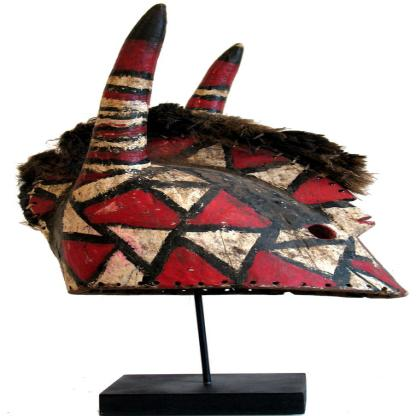Helmet: (18, 5, 408, 300)
